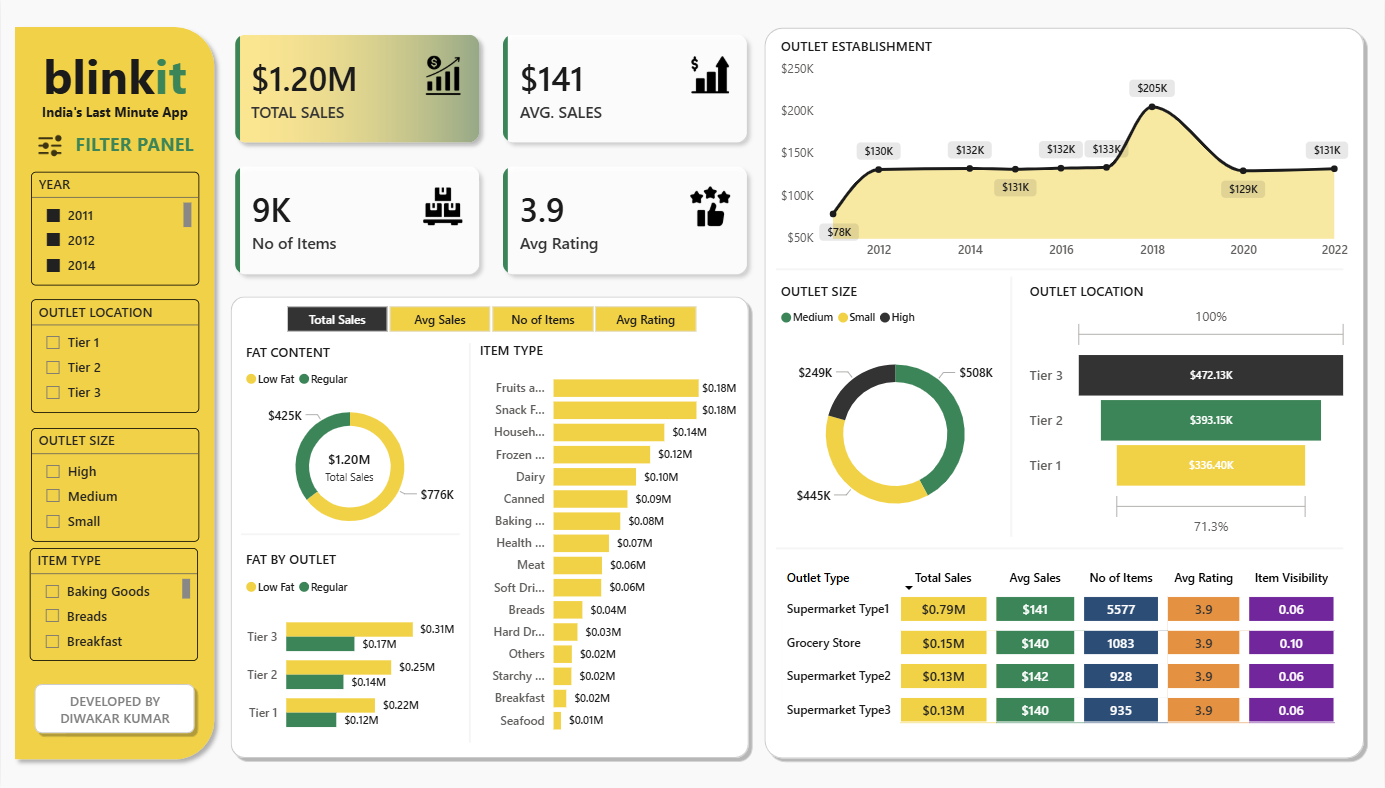

Layout of this report page (visuals, bound fields, positions):
{"tool":"powerbi","page":{"name":"Blinkit Dashboard","canvas":[1400,800],"ordinal":0},"visuals":[{"type":"shape","box":[5,20,220,760],"z":0},{"type":"shape","box":[218.9,292.6,552.3,487.4],"z":0,"group":"g1"},{"type":"shape","box":[20,684.3,190,70],"z":1000},{"type":"textbox","box":[30,40,170,80],"z":2000},{"type":"textbox","box":[30,101.4,170,34.3],"z":3000},{"type":"slicer","title":"YEAR","fields":{"Values":["Year.Year"]},"box":[30,175,170,115],"z":3000,"group":"g3"},{"type":"group","id":"g1","title":"Group 1","box":[218.9,20,553.7,760],"z":4000},{"type":"cardVisual","fields":{"Data":["Sales.Total Sales","Sales.Avg Sales","Items.No of Items","Sales.Avg Rating"]},"box":[219.6,20,553,276.2],"z":4000,"group":"g1"},{"type":"slicer","title":"OUTLET LOCATION","fields":{"Values":["Outlet.Outlet Location Type"]},"box":[30,305,170,115],"z":4000,"group":"g3"},{"type":"donutChart","title":"FAT CONTENT","fields":{"Category":["Items.Item Fat Content"],"Y":["Sales.Total Sales"]},"box":[242.7,349.6,220.9,205.6],"z":4500,"group":"g1"},{"type":"group","id":"g2","title":"Group 3","box":[760,20,635,760],"z":5000},{"type":"slicer","title":"OUTLET SIZE","fields":{"Values":["Sales.Outlet Size"]},"box":[30,435,170,115],"z":5000,"group":"g3"},{"type":"cardVisual","fields":{"Data":["Sales.Total Sales"]},"box":[277.7,436.2,151.5,76],"z":5000,"group":"g1"},{"type":"slicer","title":"ITEM TYPE","fields":{"Values":["Items.Item Type"]},"box":[29.5,557.4,170.5,114.8],"z":6000},{"type":"group","id":"g3","title":"Group 4","box":[30,130,170,420],"z":7000},{"type":"slicer","fields":{"Values":["Metrics.Metrics"]},"box":[262.7,305.4,464.6,40.1],"z":7000,"group":"g1"},{"type":"textbox","box":[30,130,170,35],"z":8000,"group":"g3"},{"type":"clusteredBarChart","title":"FAT BY OUTLET","fields":{"Category":["Outlet.Outlet Location Type"],"Series":["Items.Item Fat Content"],"Y":["Sales.Total Sales"]},"box":[242.7,554.6,220.9,205.7],"z":8000,"group":"g1"},{"type":"textbox","box":[30,697.1,170,45.7],"z":8000},{"type":"image","box":[35.7,136.5,25.7,25.7],"z":9000,"group":"g3"},{"type":"barChart","title":"ITEM TYPE","fields":{"Category":["Items.Item Type"],"Y":["Sales.Total Sales"]},"box":[479.3,346.4,269.8,408.3],"z":9000,"group":"g1"},{"type":"shape","box":[760,20,635,760],"z":10000,"group":"g2"},{"type":"shape","box":[242.7,504.4,221.4,75.9],"z":11000,"group":"g1"},{"type":"shape","box":[457.7,349,33.1,405.1],"z":12000,"group":"g1"},{"type":"lineChart","title":"OUTLET ESTABLISHMENT","fields":{"Category":["Outlet.Outlet Establishment Year"],"Y":["Sales.Total Sales"]},"box":[785.2,34.3,584.6,238.3],"z":13000,"group":"g4"},{"type":"shape","box":[785.8,262.3,574.5,25.3],"z":14000,"group":"g4"},{"type":"donutChart","title":"OUTLET SIZE","fields":{"Category":["Sales.Outlet Size"],"Y":["Sales.Total Sales"]},"box":[785.8,288,241.9,263.5],"z":15000,"group":"g4"},{"type":"funnel","title":"OUTLET LOCATION","fields":{"Category":["Outlet.Outlet Location Type"],"Y":["Sales.Total Sales"]},"box":[1037.2,288,332.6,263.5],"z":16000,"group":"g4"},{"type":"shape","box":[1006.9,282.6,33.4,263.5],"z":17000,"group":"g4"},{"type":"shape","box":[785.2,543.9,574.5,26.1],"z":18000,"group":"g4"},{"type":"pivotTable","fields":{"Rows":["Outlet.Outlet Type"],"Values":["Sales.Total Sales","Sales.Avg Sales","Items.No of Items","Sales.Avg Rating","Avg(Sales.Item Visibility)"]},"box":[785.8,570.2,584.6,186.7],"z":19000,"group":"g4"},{"type":"group","id":"g4","title":"Group 2","box":[785.2,34.3,585.2,722.7],"z":22002,"group":"g2"}]}

Visuals, with their boxes in screenshot pixels (x1, y1, x2, y2), scaled from the page's 1400x800 canvas onto the 1385x788 screenshot:
shape: <bbox>5, 20, 223, 768</bbox>
shape: <bbox>217, 288, 763, 768</bbox>
shape: <bbox>20, 674, 208, 743</bbox>
textbox: <bbox>30, 39, 198, 118</bbox>
textbox: <bbox>30, 100, 198, 134</bbox>
"YEAR" slicer: <bbox>30, 172, 198, 286</bbox>
"Group 1" group: <bbox>217, 20, 764, 768</bbox>
cardVisual - Sales.Total Sales x Sales.Avg Sales: <bbox>217, 20, 764, 292</bbox>
"OUTLET LOCATION" slicer: <bbox>30, 300, 198, 414</bbox>
"FAT CONTENT" donutChart: <bbox>240, 344, 459, 547</bbox>
"Group 3" group: <bbox>752, 20, 1380, 768</bbox>
"OUTLET SIZE" slicer: <bbox>30, 428, 198, 542</bbox>
cardVisual - Sales.Total Sales: <bbox>275, 430, 425, 505</bbox>
"ITEM TYPE" slicer: <bbox>29, 549, 198, 662</bbox>
"Group 4" group: <bbox>30, 128, 198, 542</bbox>
slicer - Metrics.Metrics: <bbox>260, 301, 720, 340</bbox>
textbox: <bbox>30, 128, 198, 163</bbox>
"FAT BY OUTLET" clusteredBarChart: <bbox>240, 546, 459, 749</bbox>
textbox: <bbox>30, 687, 198, 732</bbox>
image: <bbox>35, 134, 61, 160</bbox>
"ITEM TYPE" barChart: <bbox>474, 341, 741, 743</bbox>
shape: <bbox>752, 20, 1380, 768</bbox>
shape: <bbox>240, 497, 459, 572</bbox>
shape: <bbox>453, 344, 486, 743</bbox>
"OUTLET ESTABLISHMENT" lineChart: <bbox>777, 34, 1355, 269</bbox>
shape: <bbox>777, 258, 1346, 283</bbox>
"OUTLET SIZE" donutChart: <bbox>777, 284, 1017, 543</bbox>
"OUTLET LOCATION" funnel: <bbox>1026, 284, 1355, 543</bbox>
shape: <bbox>996, 278, 1029, 538</bbox>
shape: <bbox>777, 536, 1345, 561</bbox>
pivotTable - Outlet.Outlet Type x Sales.Total Sales: <bbox>777, 562, 1356, 746</bbox>
"Group 2" group: <bbox>777, 34, 1356, 746</bbox>
